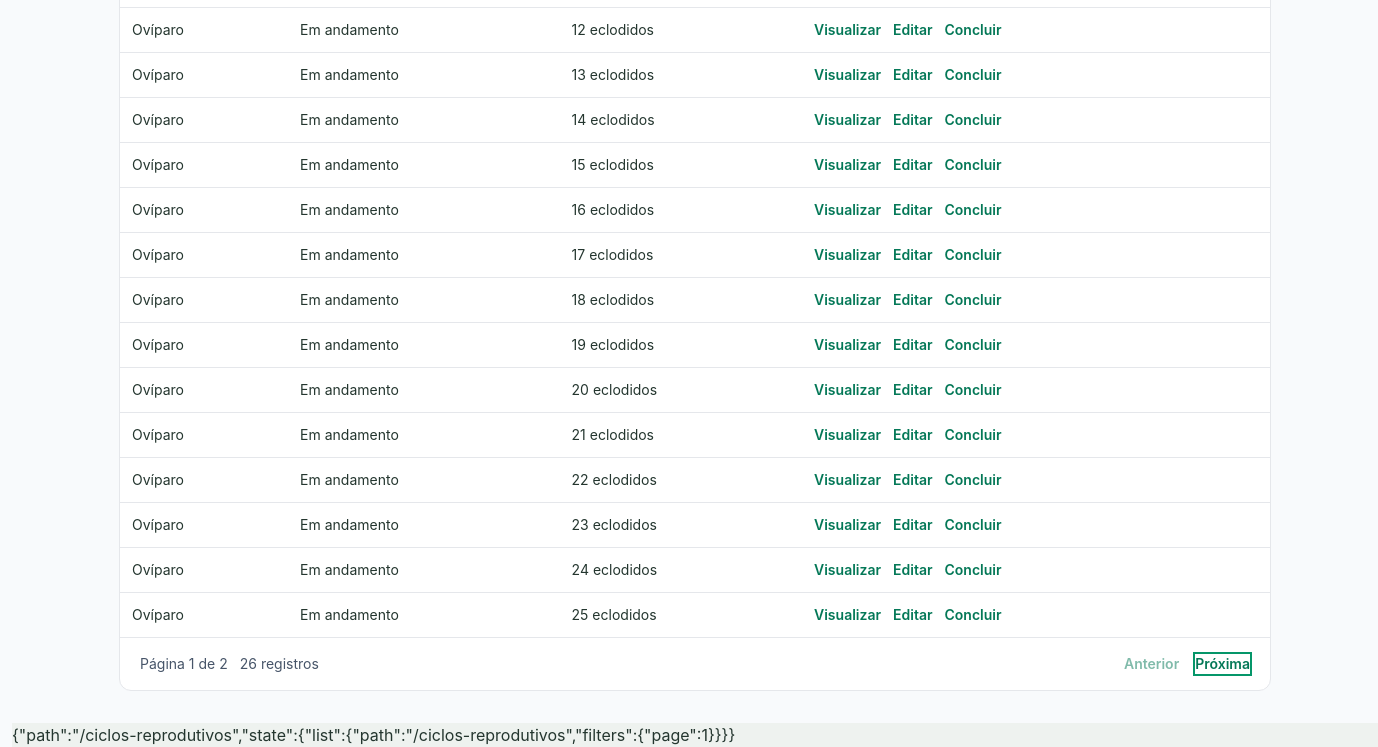
Scenario: ReproductiveCycleListPage pagination › moves focus to the persistent summary before disabling the pagination button
The width and height of the screenshot is (1378, 747).
(page scrolled)
Expected: the text "25 eclodidos" is shown, [560, 592, 802, 637]
Step 1. Click the button "Próxima" → (1223, 664), box [1195, 654, 1250, 674]
(page scrolled)
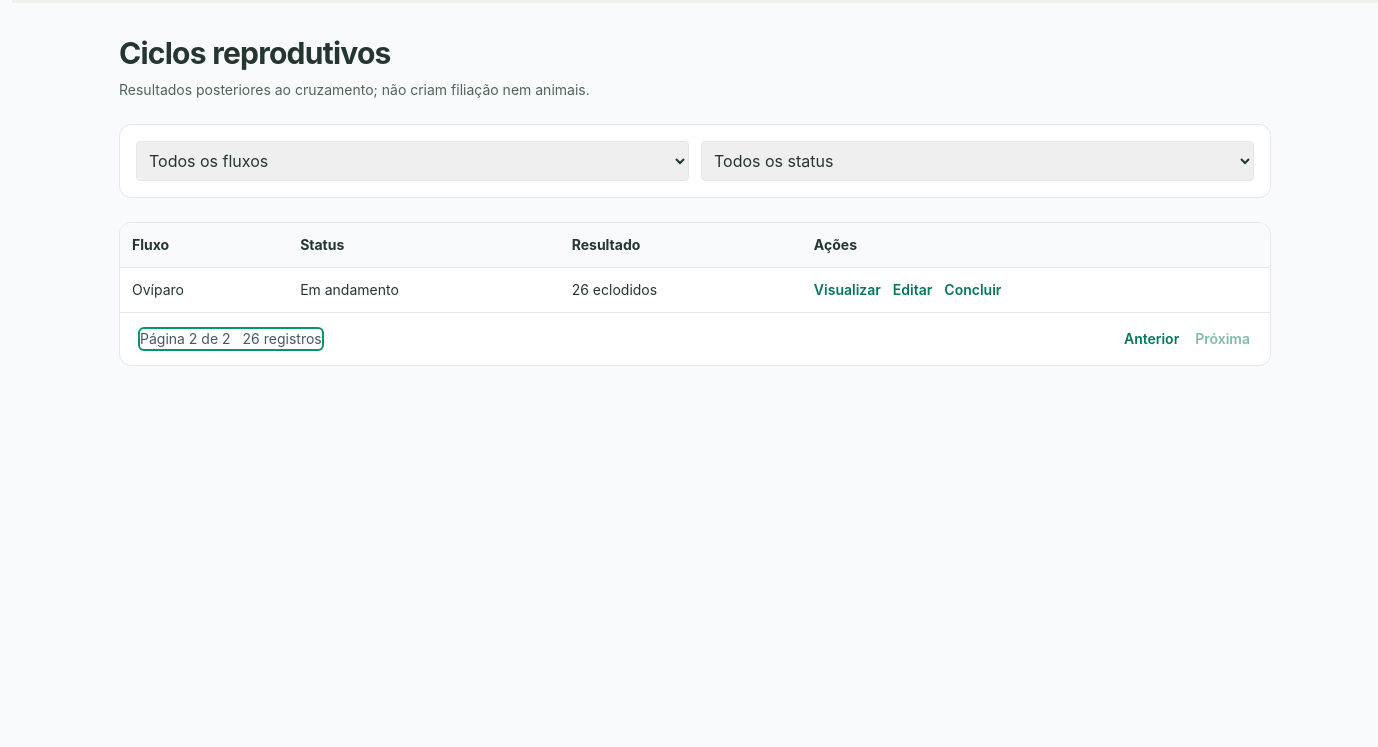
Expected: the navigation bar named "Paginação de ciclos reprodutivos" is shown, [120, 312, 1270, 365]
Expected: the button "Próxima" is disabled, [1195, 329, 1250, 349]
